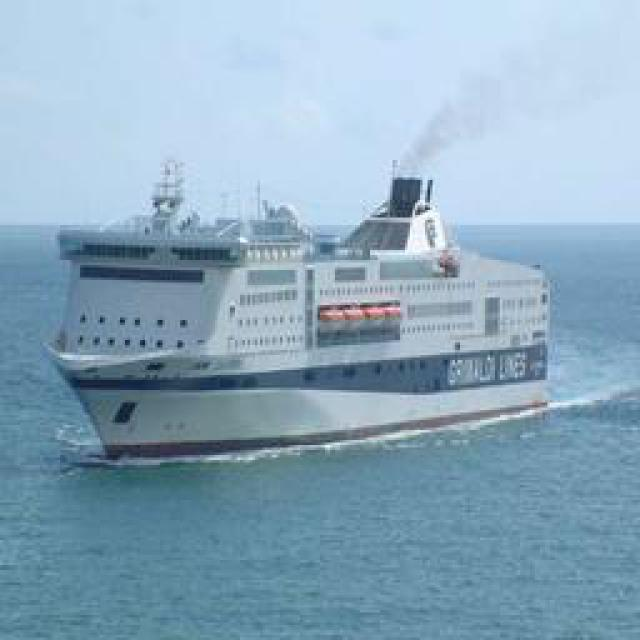Ship: (43, 162, 561, 452)
